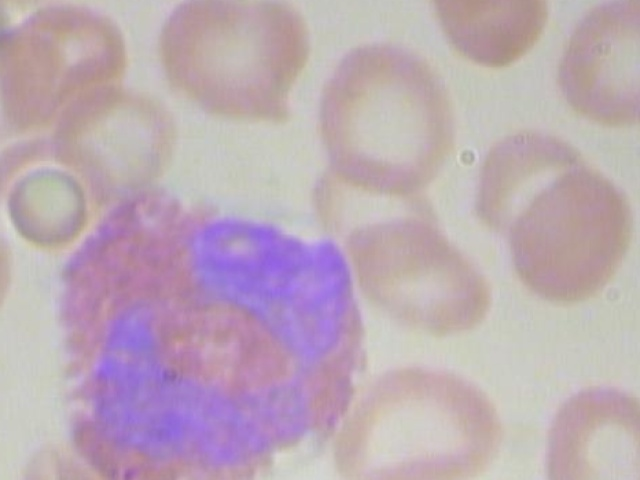RBC: (309, 37, 474, 204), (314, 356, 513, 480), (151, 0, 315, 131), (497, 162, 640, 307), (336, 213, 495, 339), (471, 121, 588, 240), (544, 0, 640, 139), (531, 379, 640, 480), (0, 23, 66, 159), (428, 0, 553, 71), (3, 165, 88, 255), (0, 192, 18, 331)
WBC: (41, 186, 395, 480)
